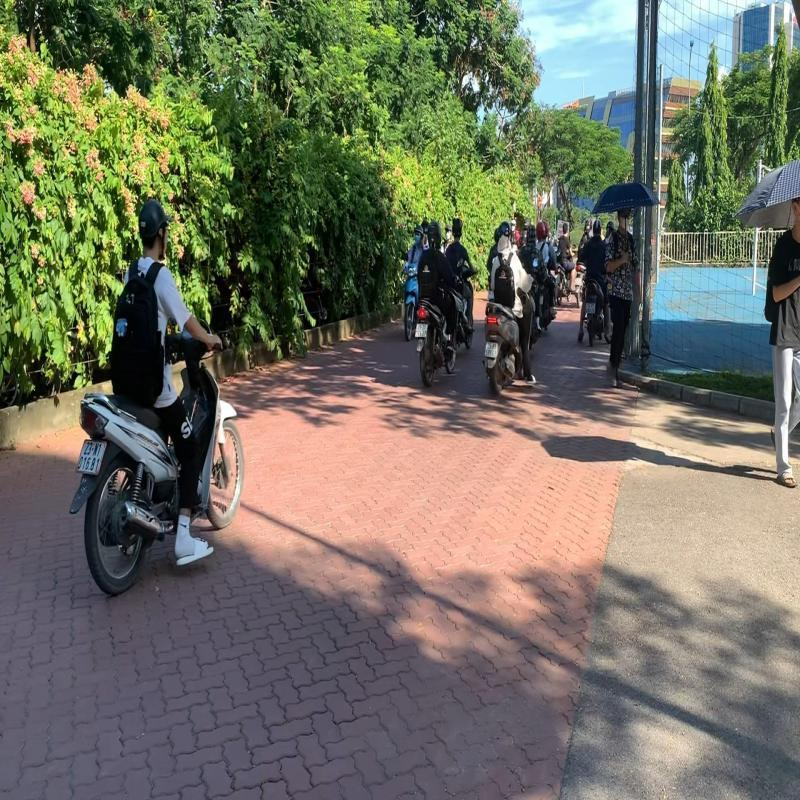helmet: (136, 197, 176, 259)
licenseplate: (73, 435, 108, 478)
motorcyclist: (65, 194, 252, 602)
